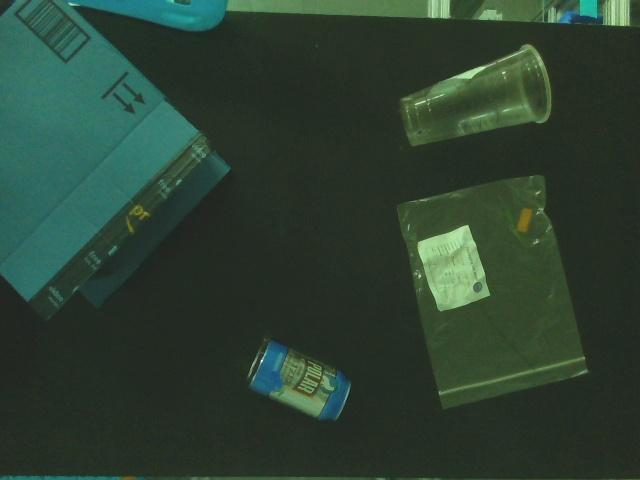cardboard: (0, 0, 235, 338)
metal: (242, 337, 360, 431)
plastic: (387, 173, 591, 414), (392, 38, 558, 152), (515, 207, 535, 233)
